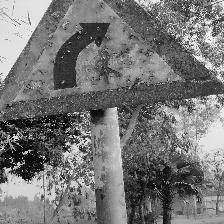Right-turn: (1, 0, 223, 118)
